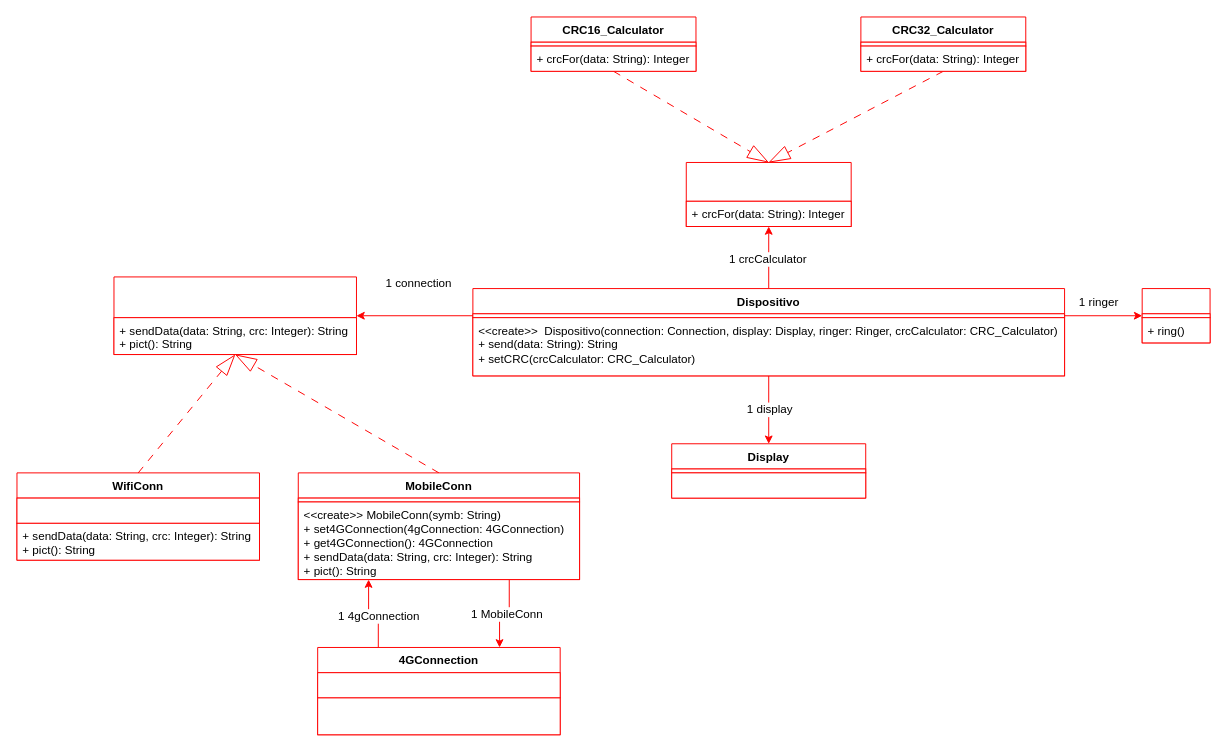
Image size: 1227x755. Some labels were removed from this diagram. Here are the shapes that lost their labels. From the top down, the box of each, then its label:
(685, 162, 851, 226): <<Interface>> CRC_Calculator
(113, 276, 356, 355): <<Interface>> Connection
(1141, 288, 1210, 343): Ringer
(671, 472, 866, 498): + showBanner(img: String): String
(16, 497, 259, 523): - pict: String
(317, 672, 560, 698): - symb: String
(317, 697, 560, 735): + getSymb(): String + transmit(data: String, Integer crc): String
